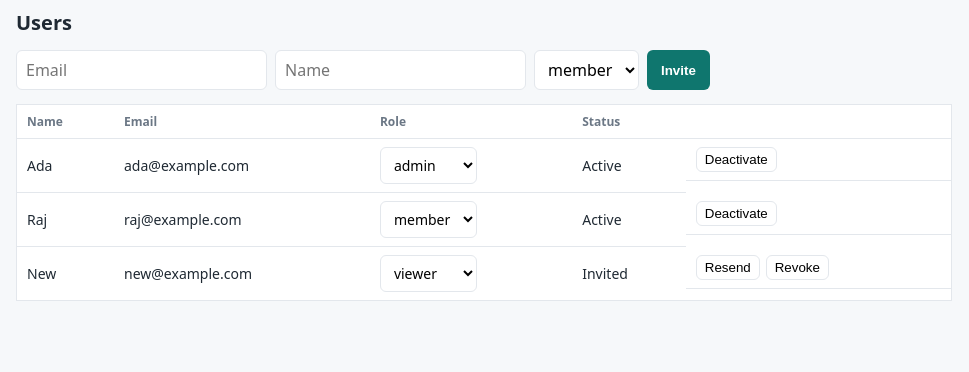
Test: UsersAdmin › invites a user
Check: the row with test id "user-1" is shown, box [16,138,952,192]
Type "sam@example.com" into the field with test id "invite-email" at (142, 70), box [16,50,267,90]
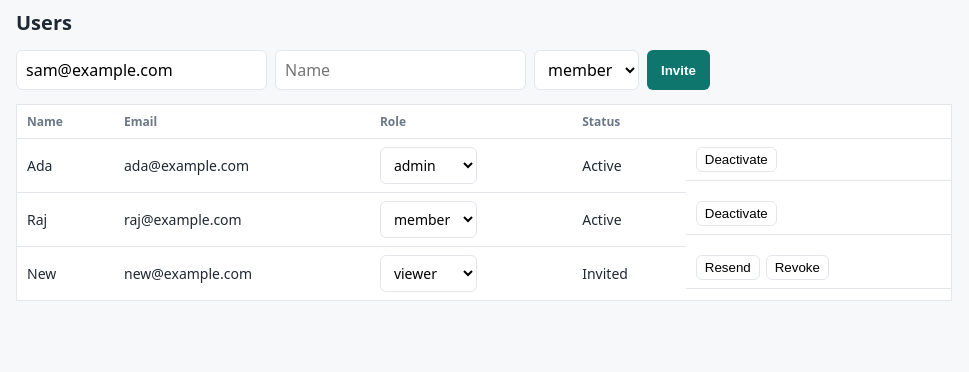
Type "Sam" into the field with test id "invite-name" at (400, 70), box [275,50,526,90]
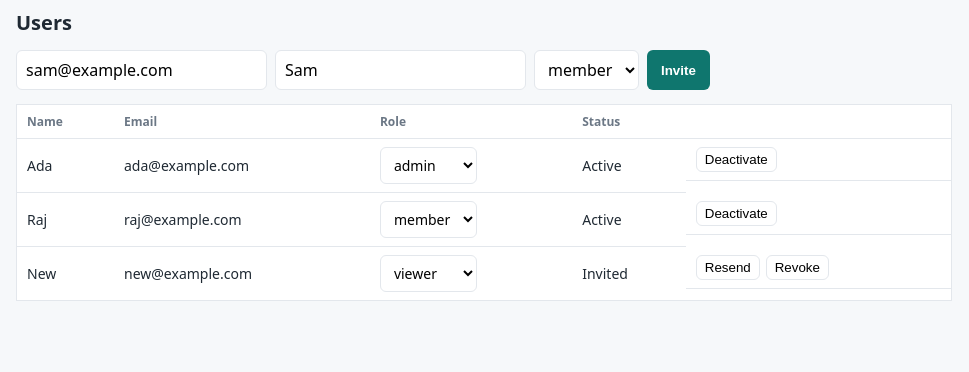
Select "viewer" in the dropdown with test id "invite-role" at (586, 70), box [534,50,639,90]
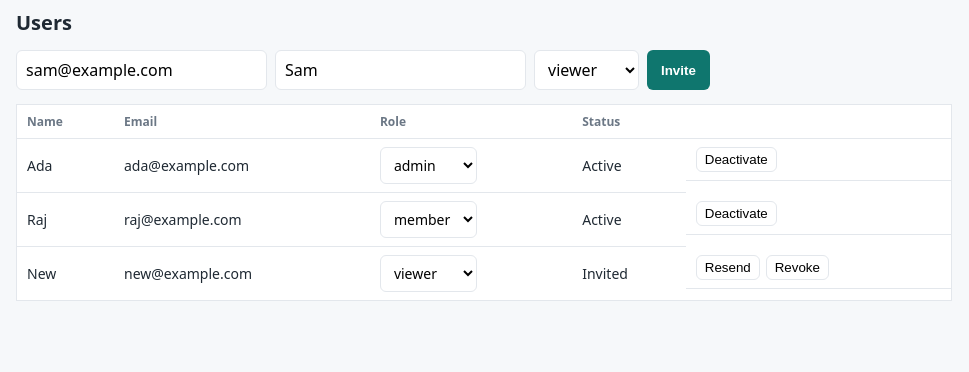
Click the button with test id "invite-send" at (678, 70), box [647,50,710,90]
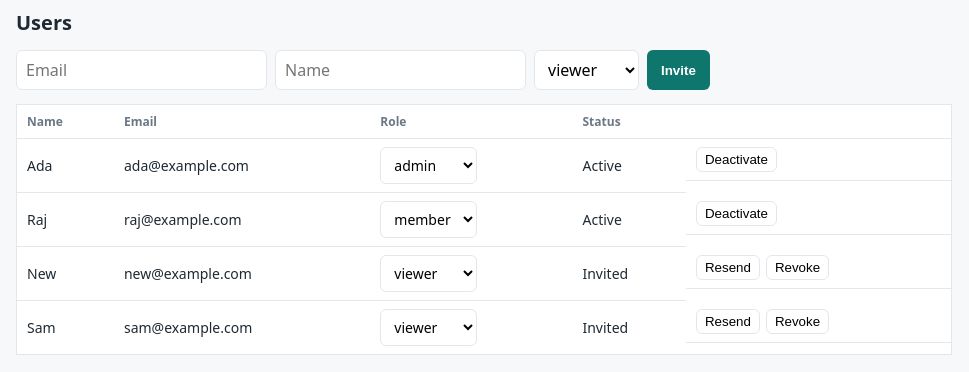
Check: the row with test id "user-9" is shown, box [16,300,952,354]
